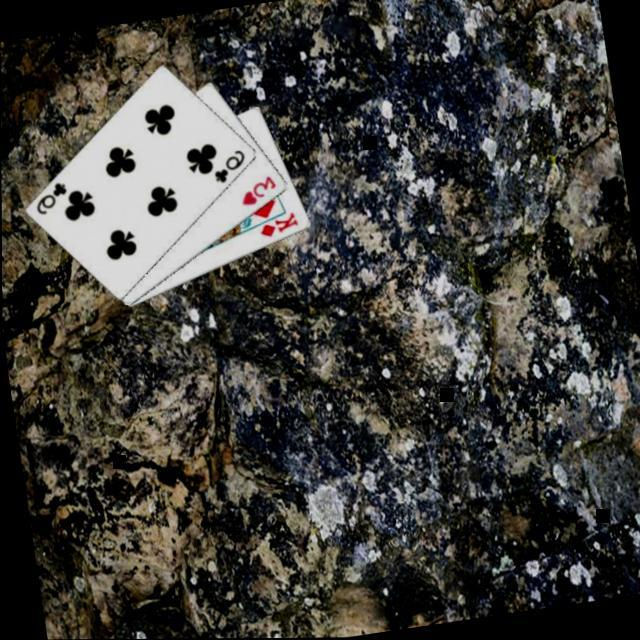3H: (236, 174, 282, 212)
6C: (209, 148, 252, 188), (31, 180, 74, 220)
KD: (256, 210, 303, 243)
